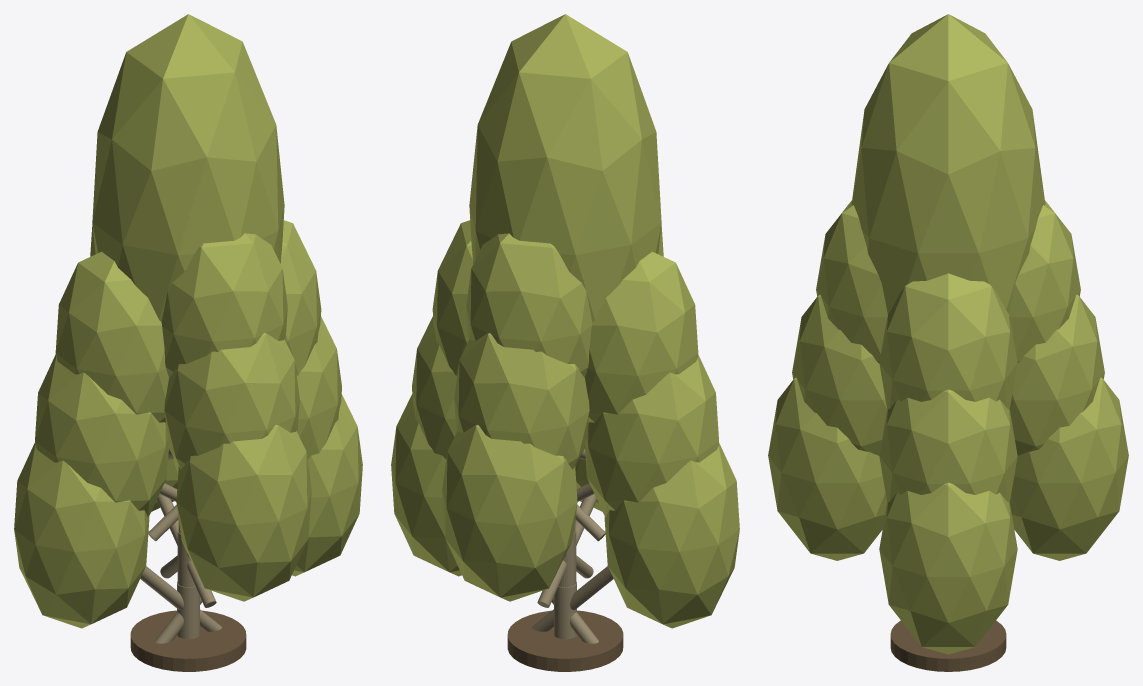
Rendered from plant_stage_8_maturation.glb.
3 views of the same model, side by side, from view 1: azimuth 30°, elevation 25°; view 2: azimuth 150°, elevation 25°; view 3: azimuth 270°, elevation 25° (orthographic).
Parts seen in each view (by area): view 1: Icosphere.012, Icosphere.003, Icosphere.001, Icosphere.009, Icosphere.005, Icosphere.011, Icosphere.007, Icosphere, Cylinder.212, Icosphere.004, Icosphere.008, Cylinder.016 (+3 smaller); view 2: Icosphere.012, Icosphere.002, Icosphere.001, Icosphere.009, Icosphere.005, Icosphere.010, Icosphere.006, Icosphere, Cylinder.212, Icosphere.004, Icosphere.008, Cylinder.016 (+3 smaller); view 3: Icosphere.012, Icosphere, Icosphere.008, Icosphere.002, Icosphere.003, Icosphere.004, Icosphere.006, Icosphere.007, Icosphere.010, Icosphere.011, Cylinder.212.
Part boxes in pixels (x1,y1,x2,y2): Icosphere.012: (92,14,284,322); Icosphere.003: (176,425,311,601); Icosphere.001: (14,443,149,628); Icosphere.009: (55,251,168,422); Icosphere.005: (35,354,168,517); Icosphere.011: (161,233,287,377); Icosphere.007: (164,333,299,469); Icosphere: (292,394,362,576); Cylinder.212: (130,610,246,671); Icosphere.004: (297,316,341,459); Icosphere.008: (280,220,321,375); Cylinder.016: (140,566,221,631); Icosphere.012: (469,14,661,322); Icosphere.002: (442,425,577,601); Icosphere.001: (604,443,739,628); Icosphere.009: (585,251,698,422); Icosphere.005: (585,354,718,517); Icosphere.010: (466,233,592,377); Icosphere.006: (454,333,589,469); Icosphere: (391,394,461,576); Cylinder.212: (507,610,623,671); Icosphere.004: (412,316,456,459); Icosphere.008: (432,220,473,375); Cylinder.016: (532,566,613,631); Icosphere.012: (851,14,1045,313); Icosphere: (879,482,1017,654); Icosphere.008: (879,273,1017,410); Icosphere.002: (1009,377,1128,560); Icosphere.003: (768,377,887,560); Icosphere.004: (879,389,1017,503); Icosphere.006: (1009,294,1104,455); Icosphere.007: (792,294,887,455); Icosphere.010: (1009,200,1080,363); Icosphere.011: (816,200,887,363); Cylinder.212: (890,620,1006,671).
Bounding box in the file's own units: 0.5217 × 0.9741 × 0.4979.
